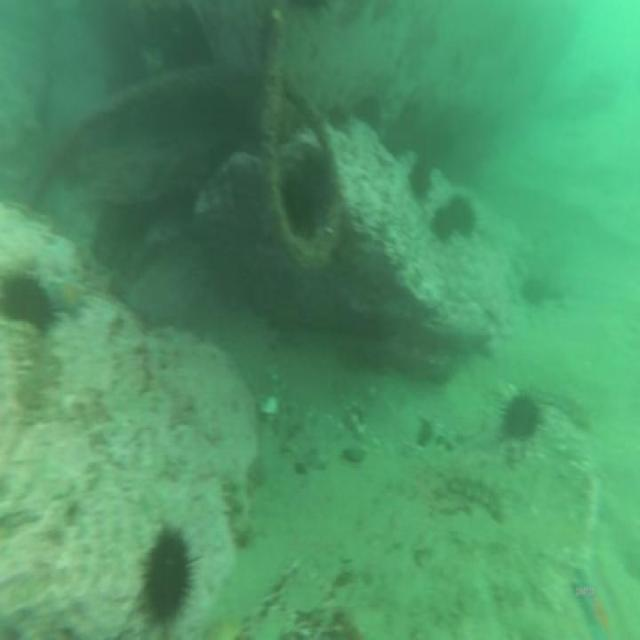echinus: (141, 523, 193, 626), (1, 266, 59, 338), (501, 392, 545, 449), (404, 155, 434, 204), (452, 190, 479, 238), (428, 198, 456, 244)
holothurian: (442, 471, 508, 526), (221, 465, 250, 550)
starfish: (572, 564, 614, 640), (50, 274, 89, 322)
